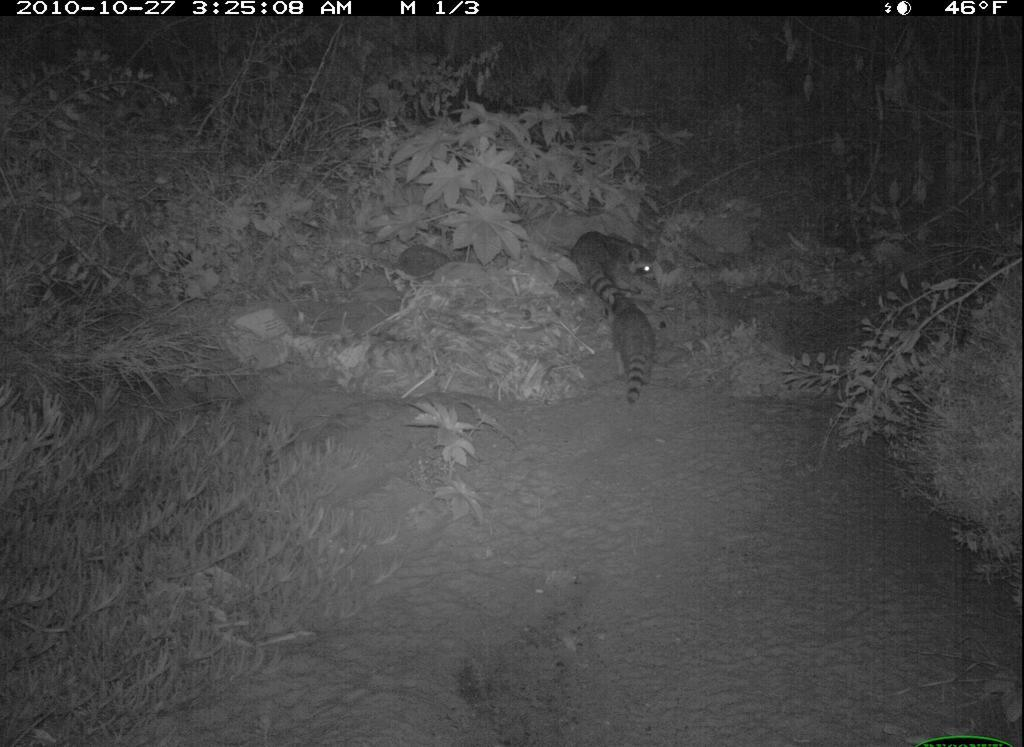raccoon: (565, 216, 663, 407)
